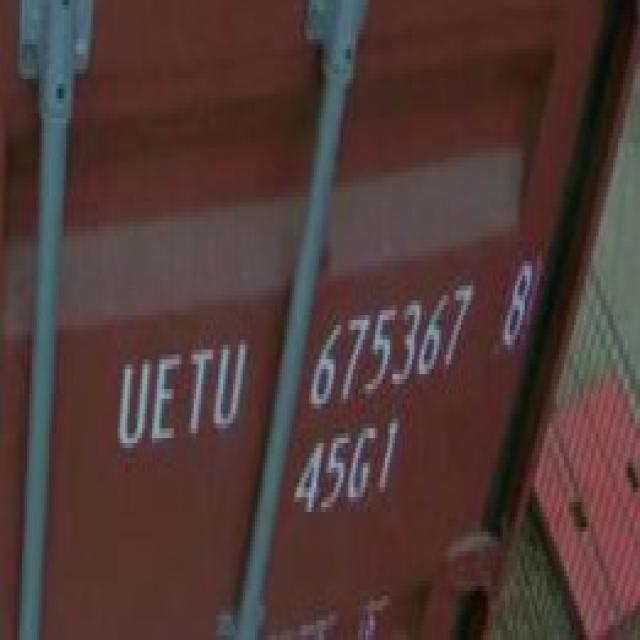dv: (497, 248, 535, 358)
owner: (112, 337, 250, 454)
serial: (300, 266, 476, 416)
size: (286, 421, 408, 517)
